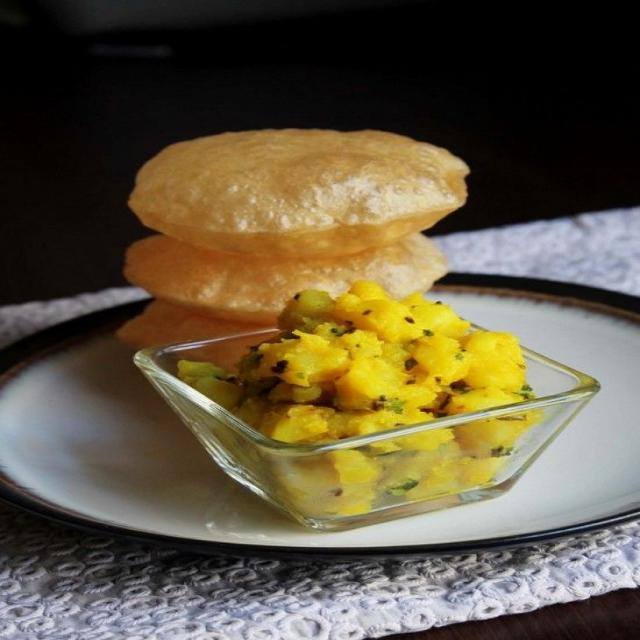poori: (122, 114, 482, 260), (115, 223, 445, 317)
